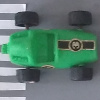verde: (3, 13, 95, 82)
